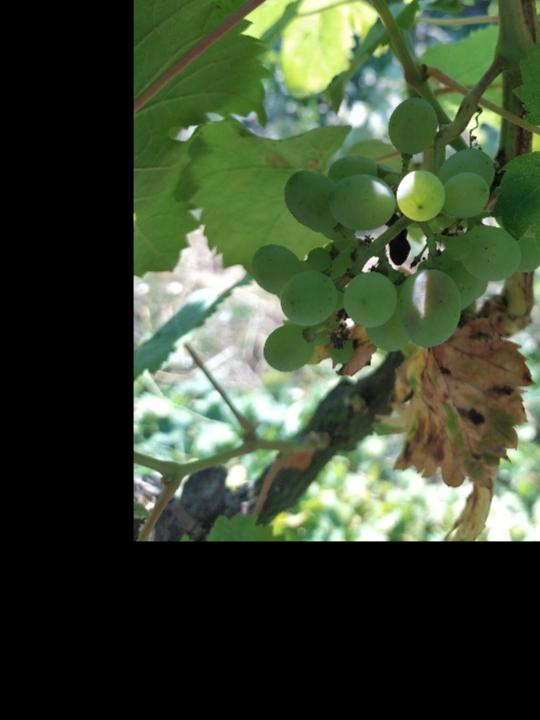grape: (251, 96, 540, 374)
